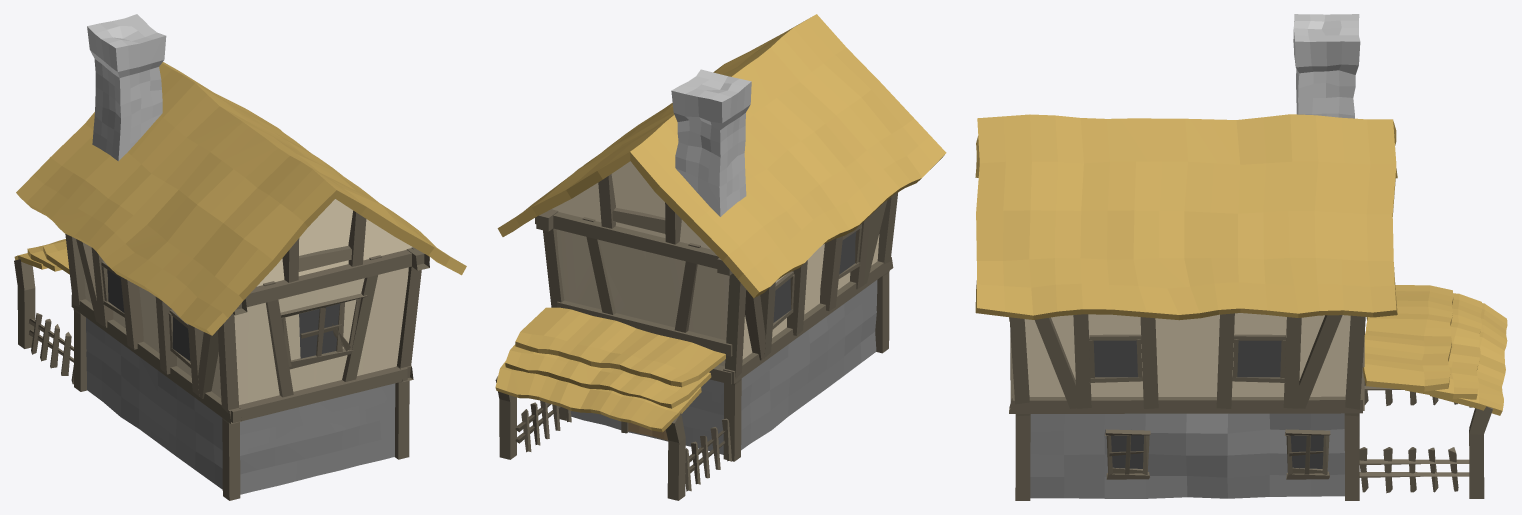
The model's file is maison.fbx.
3 renders of one model, left to right at view 1: azimuth 30°, elevation 25°; view 2: azimuth 150°, elevation 25°; view 3: azimuth 270°, elevation 25°, orthographic. The views are drawn at different scales.
Visible parts, largest first — view 1: Plan.035; view 2: Plan.035; view 3: Plan.035.
Boxes of the visible parts, x1,y1,x2,y2 form: Plan.035: (14,14,466,500); Plan.035: (495,14,946,500); Plan.035: (975,14,1507,500).
Size of the model in its own units: 730 by 934 by 1133.
